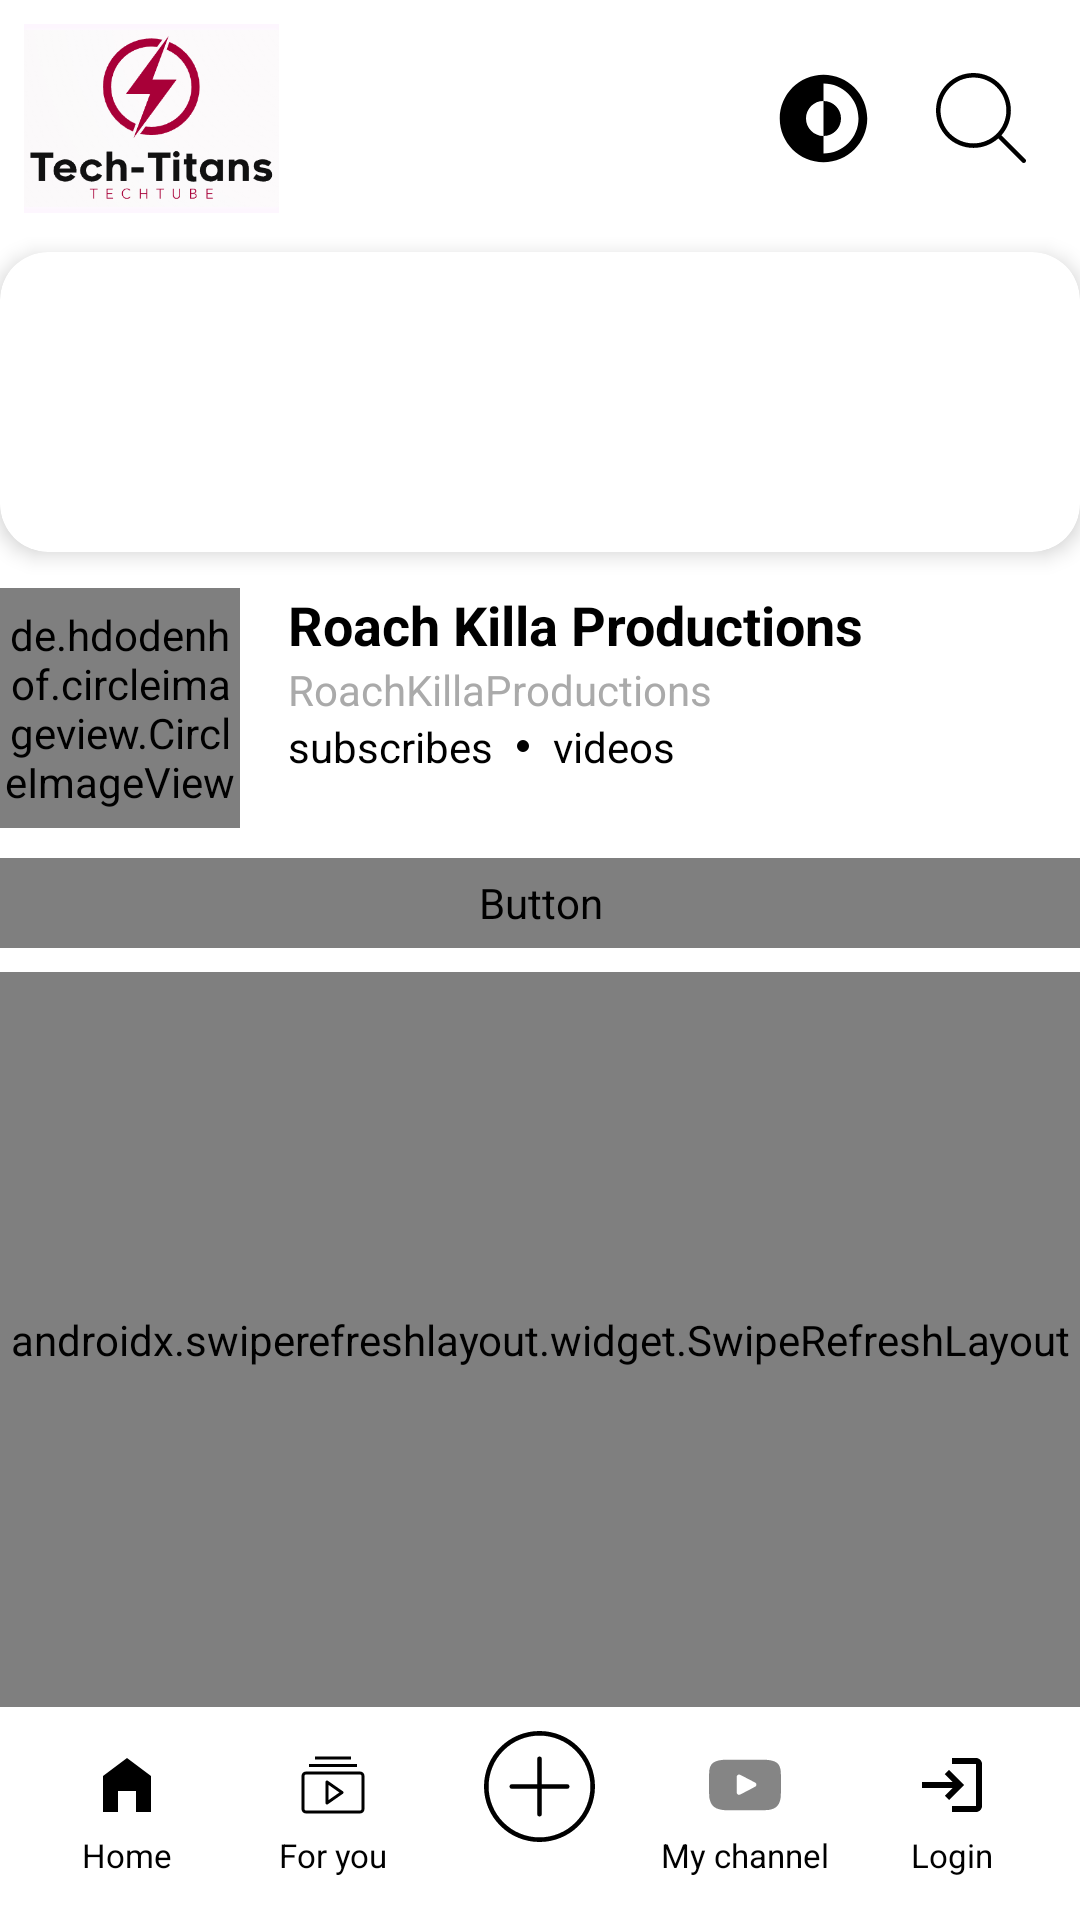

Named icons in this screenshot (1080 x 1920) and their centers, (x=x, y=y):
mode: (x=823, y=118)
search: (x=981, y=118)
